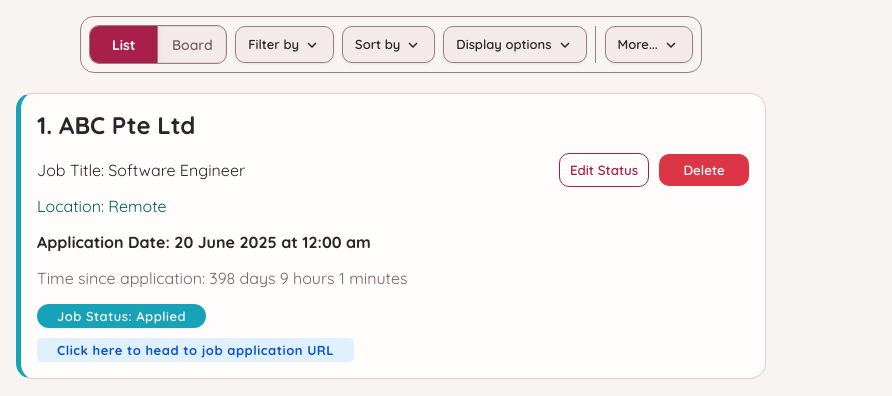
Test: Job application viewing flow › displays job application details and action buttons
The image size is (892, 396).
Expected: the heading "1. ABC Pte Ltd" is shown, [37, 110, 195, 140]
Expected: the text "Job Title: Software Engineer" is shown, [37, 160, 245, 180]
Click the button "Display options" at (515, 44), box [443, 26, 587, 63]
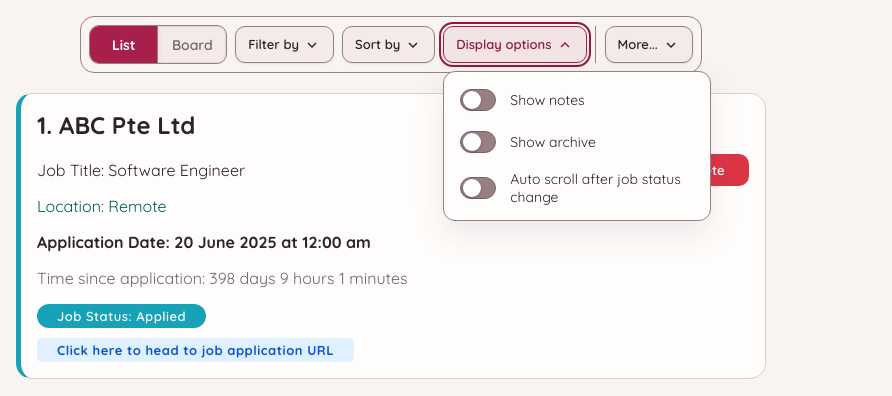
Click the button "More..." at (649, 44), box [604, 26, 693, 63]
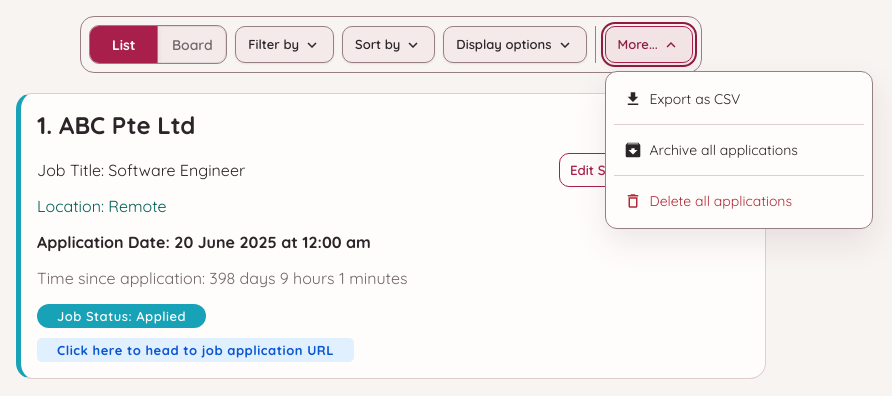
Now the button "Delete all applications" is shown, box [614, 182, 864, 220]
Now the button "Archive all applications" is shown, box [614, 131, 864, 169]
Now the link "Export as CSV" is shown, box [624, 90, 740, 108]
